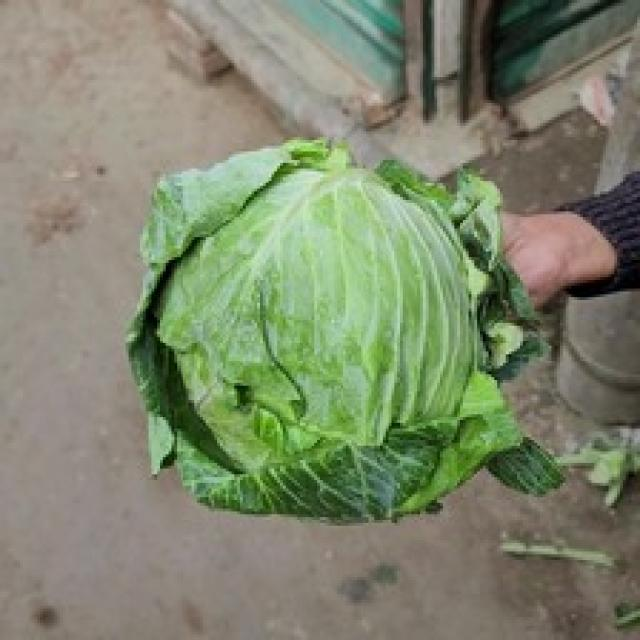Cabbage: (123, 134, 563, 523)
